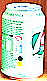sevenup: (2, 3, 45, 79)
